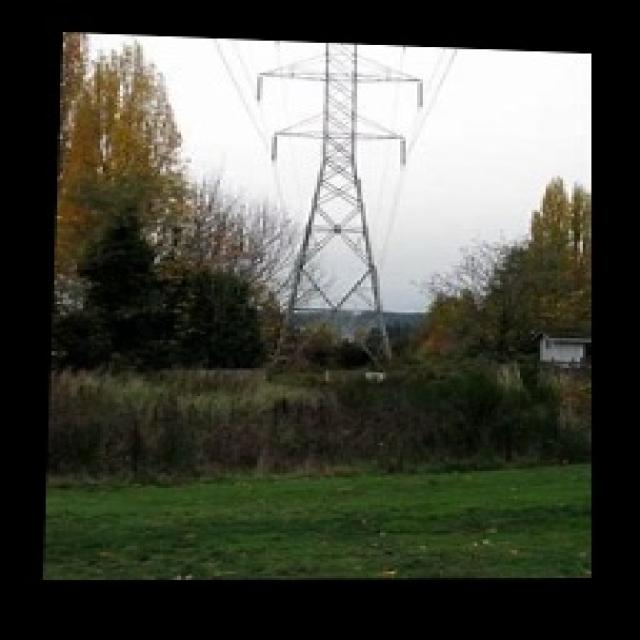utility poles: (212, 228, 325, 358), (344, 286, 474, 366)
